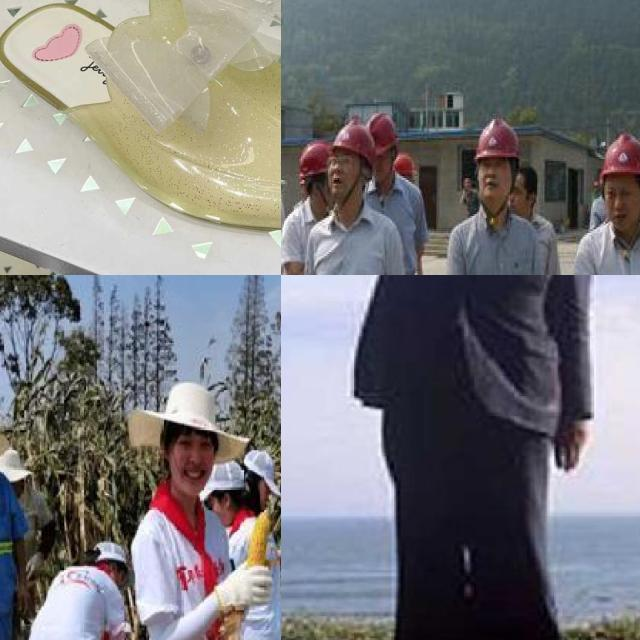Sandals: (0, 0, 281, 247)
face_nomask: (168, 431, 210, 496), (600, 182, 638, 229), (324, 153, 358, 194), (477, 155, 509, 195)
glasses: (322, 151, 356, 169)
hand_glove: (223, 558, 274, 612)
hand_noglove: (548, 418, 590, 477), (15, 581, 28, 614)
head_helmet: (329, 113, 380, 162), (472, 115, 522, 164), (594, 131, 640, 180), (296, 139, 335, 177)
head_nohelmet: (148, 381, 238, 440)
person: (313, 275, 622, 640), (126, 381, 253, 640), (302, 110, 405, 275), (448, 118, 542, 275), (30, 544, 127, 640), (583, 126, 640, 275)
